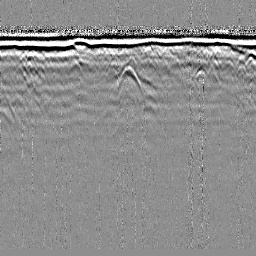cavity: (116, 64, 143, 95)
